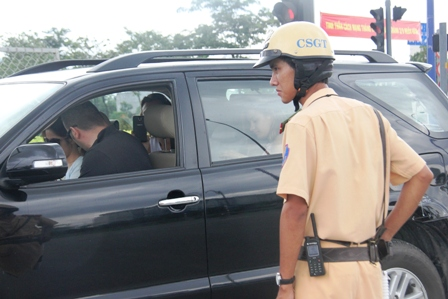police: (241, 21, 435, 298)
